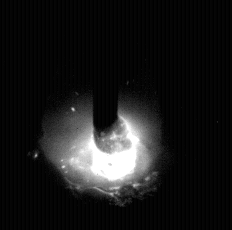arame: (93, 0, 119, 153)
poca: (41, 0, 160, 230)
